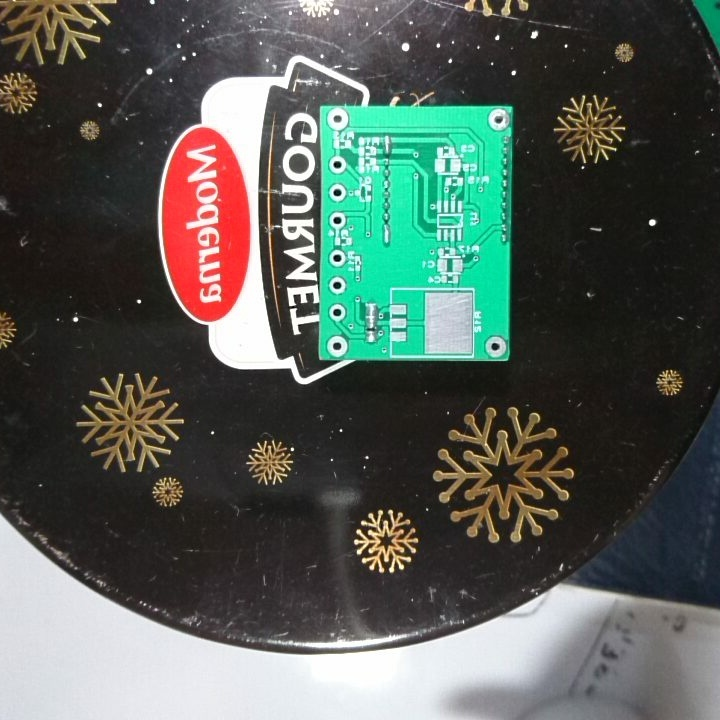F: (324, 106, 351, 132), (485, 107, 511, 133), (325, 334, 352, 358), (483, 334, 508, 358), (327, 301, 348, 323), (327, 209, 348, 231), (326, 182, 348, 203), (327, 247, 347, 270), (327, 154, 348, 175), (327, 273, 346, 295)
P: (362, 300, 379, 331), (379, 222, 394, 246), (380, 132, 394, 157)
